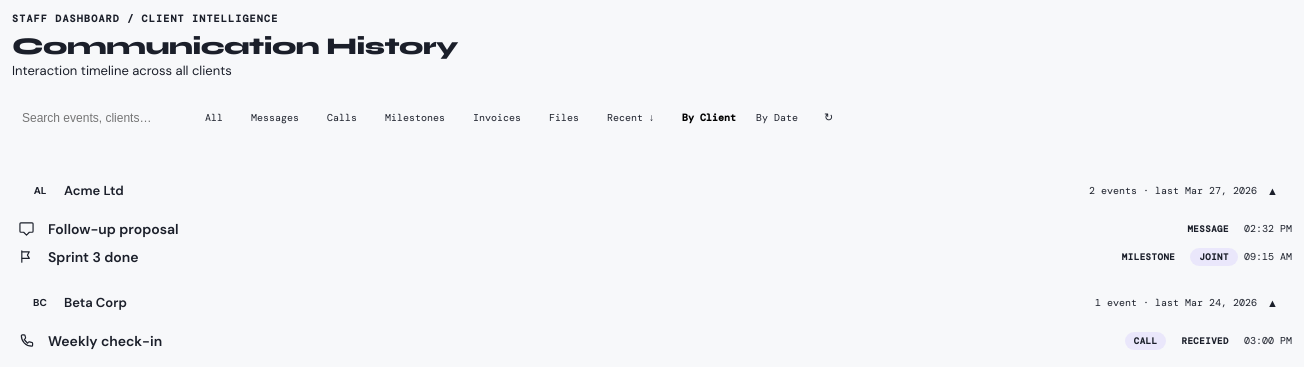
Test case: CommunicationHistoryPage — By Client view (default) › collapses a lane when its header is clicked
This screenshot has width=1304, height=367.
Expected: the text "Follow-up proposal" is shown, [48,220,179,238]
# Click the lane header
What coordinates should you click on to do the following:
click the text "Acme Ltd"
I would click on:
 (94, 191)
Its box is [64,182,124,199].
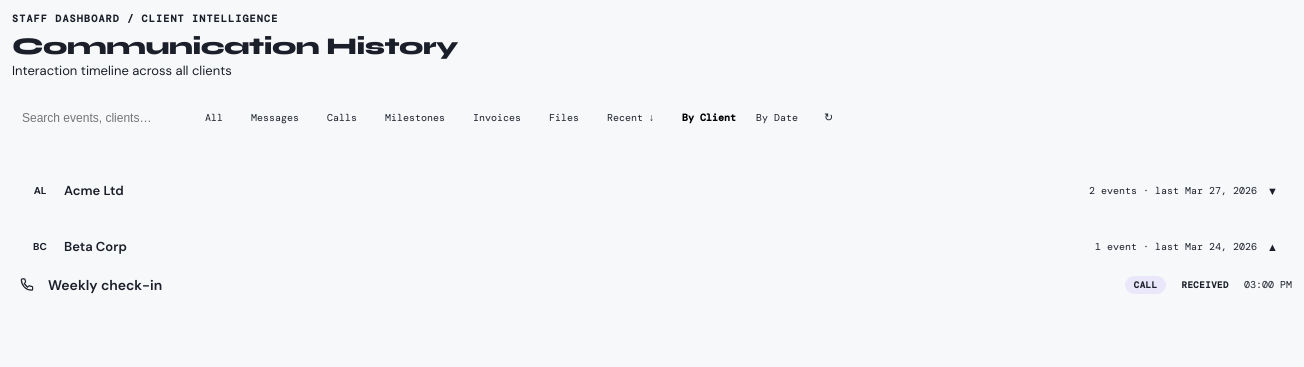
Expected: the button "Follow-up proposal" is gone
